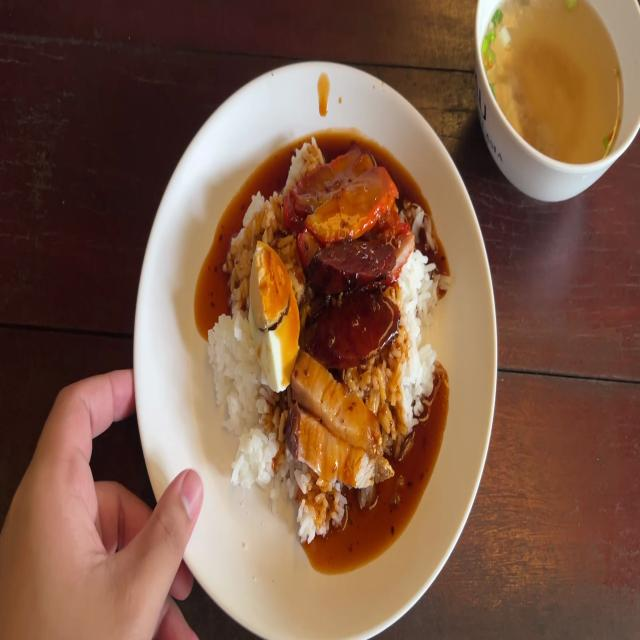01boiled_egg: (249, 244, 297, 386)
01chainese_sausage: (309, 229, 397, 360), (307, 291, 403, 358), (319, 232, 388, 286)
01crispy_pork: (292, 352, 388, 491), (296, 354, 387, 439), (300, 420, 382, 483)
01red_pork: (292, 139, 388, 245), (302, 167, 392, 233)
01red_pork_and_crispy_pork: (204, 144, 440, 541)
01rice: (200, 289, 266, 496), (401, 218, 442, 414), (228, 193, 275, 288), (297, 486, 347, 536)
